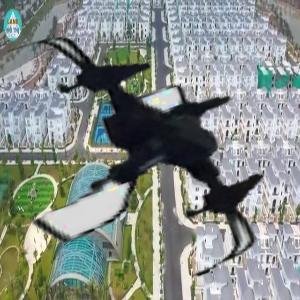drone: (2, 12, 282, 292)
